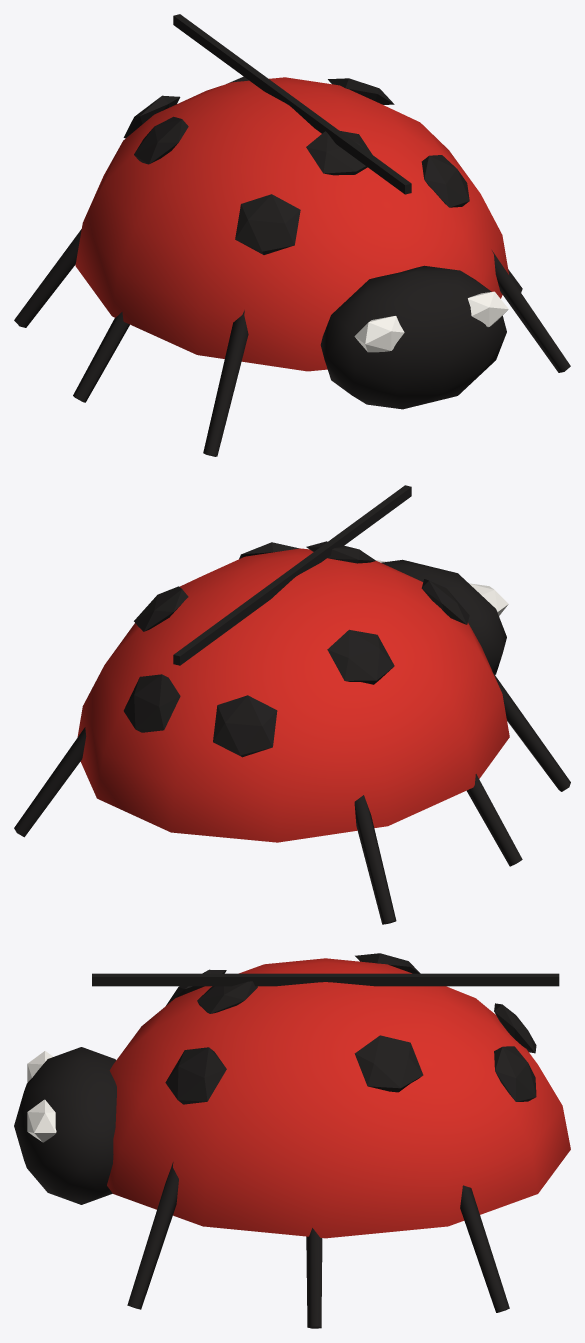
The model's file is ladybug.glb.
3 renders of one model, top to bottom at view 1: azimuth 30°, elevation 25°; view 2: azimuth 150°, elevation 25°; view 3: azimuth 270°, elevation 25°, orthographic.
Parts seen in each view (by area): view 1: ladybug; view 2: ladybug; view 3: ladybug.
Part boxes in pixels (x1,y1,x2,y2): ladybug: (14, 14, 570, 456); ladybug: (14, 485, 570, 924); ladybug: (14, 953, 570, 1328).
Size of the model in its own units: 1 by 0.528 by 1.07.
